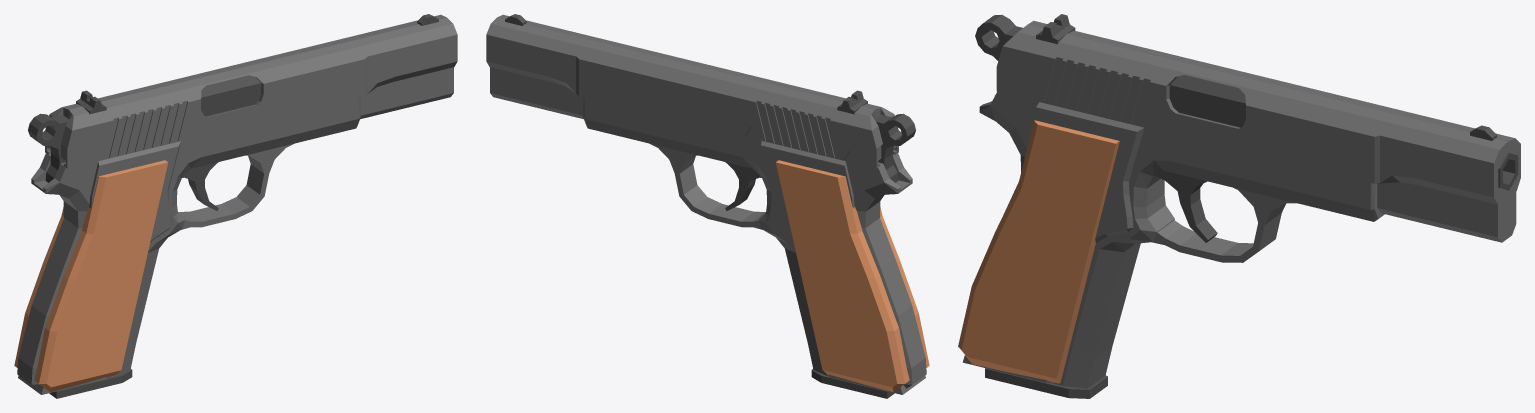
Rendered from pistol.fbx.
3 renders of one model, left to right at view 1: azimuth 30°, elevation 25°; view 2: azimuth 150°, elevation 25°; view 3: azimuth 330°, elevation 25°, orthographic. The views are drawn at different scales.
Parts seen in each view (by area): view 1: pistol, pistol_reload, pistol_magazine; view 2: pistol, pistol_reload, pistol_magazine; view 3: pistol, pistol_reload, pistol_magazine.
Part boxes in pixels (left/top/right/bottom): pistol: left=14, top=75, right=360, bottom=394; pistol_reload: left=45, top=14, right=457, bottom=168; pistol_magazine: left=49, top=369, right=132, bottom=398; pistol: left=583, top=97, right=929, bottom=394; pistol_reload: left=486, top=14, right=898, bottom=168; pistol_magazine: left=811, top=369, right=894, bottom=398; pistol: left=958, top=15, right=1518, bottom=388; pistol_reload: left=996, top=14, right=1520, bottom=242; pistol_magazine: left=985, top=368, right=1107, bottom=398.
Size of the model in its own units: 5181 by 3317 by 624.
Materials: 3 (3 with a texture image).
